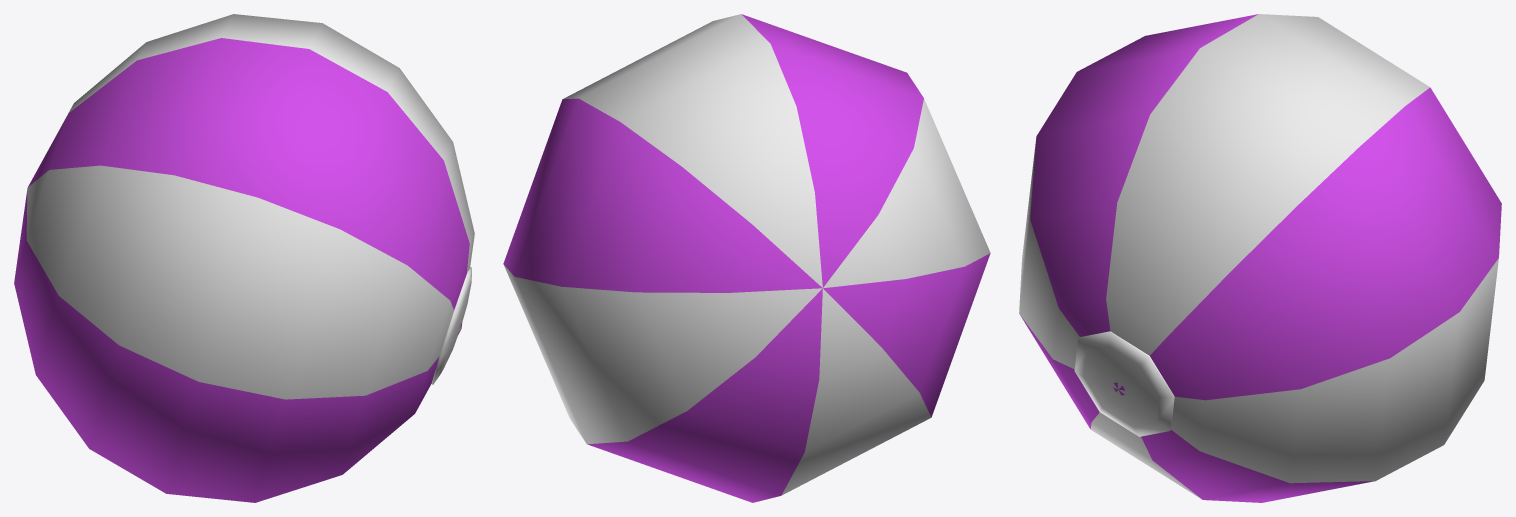
Rendered from Ball.glb.
3 renders of one model, left to right at view 1: azimuth 30°, elevation 25°; view 2: azimuth 150°, elevation 25°; view 3: azimuth 270°, elevation 25°, orthographic. The views are drawn at different scales.
Parts seen in each view (by area): view 1: Sphere, Sphere.001; view 2: Sphere; view 3: Sphere, Sphere.001.
Part boxes in pixels (x1,y1,x2,y2): Sphere: [14, 14, 474, 502]; Sphere.001: [431, 267, 471, 384]; Sphere: [503, 14, 990, 502]; Sphere: [1019, 14, 1501, 502]; Sphere.001: [1074, 331, 1174, 436].
Size of the model in its own units: 1.29 by 1.36 by 1.28.
